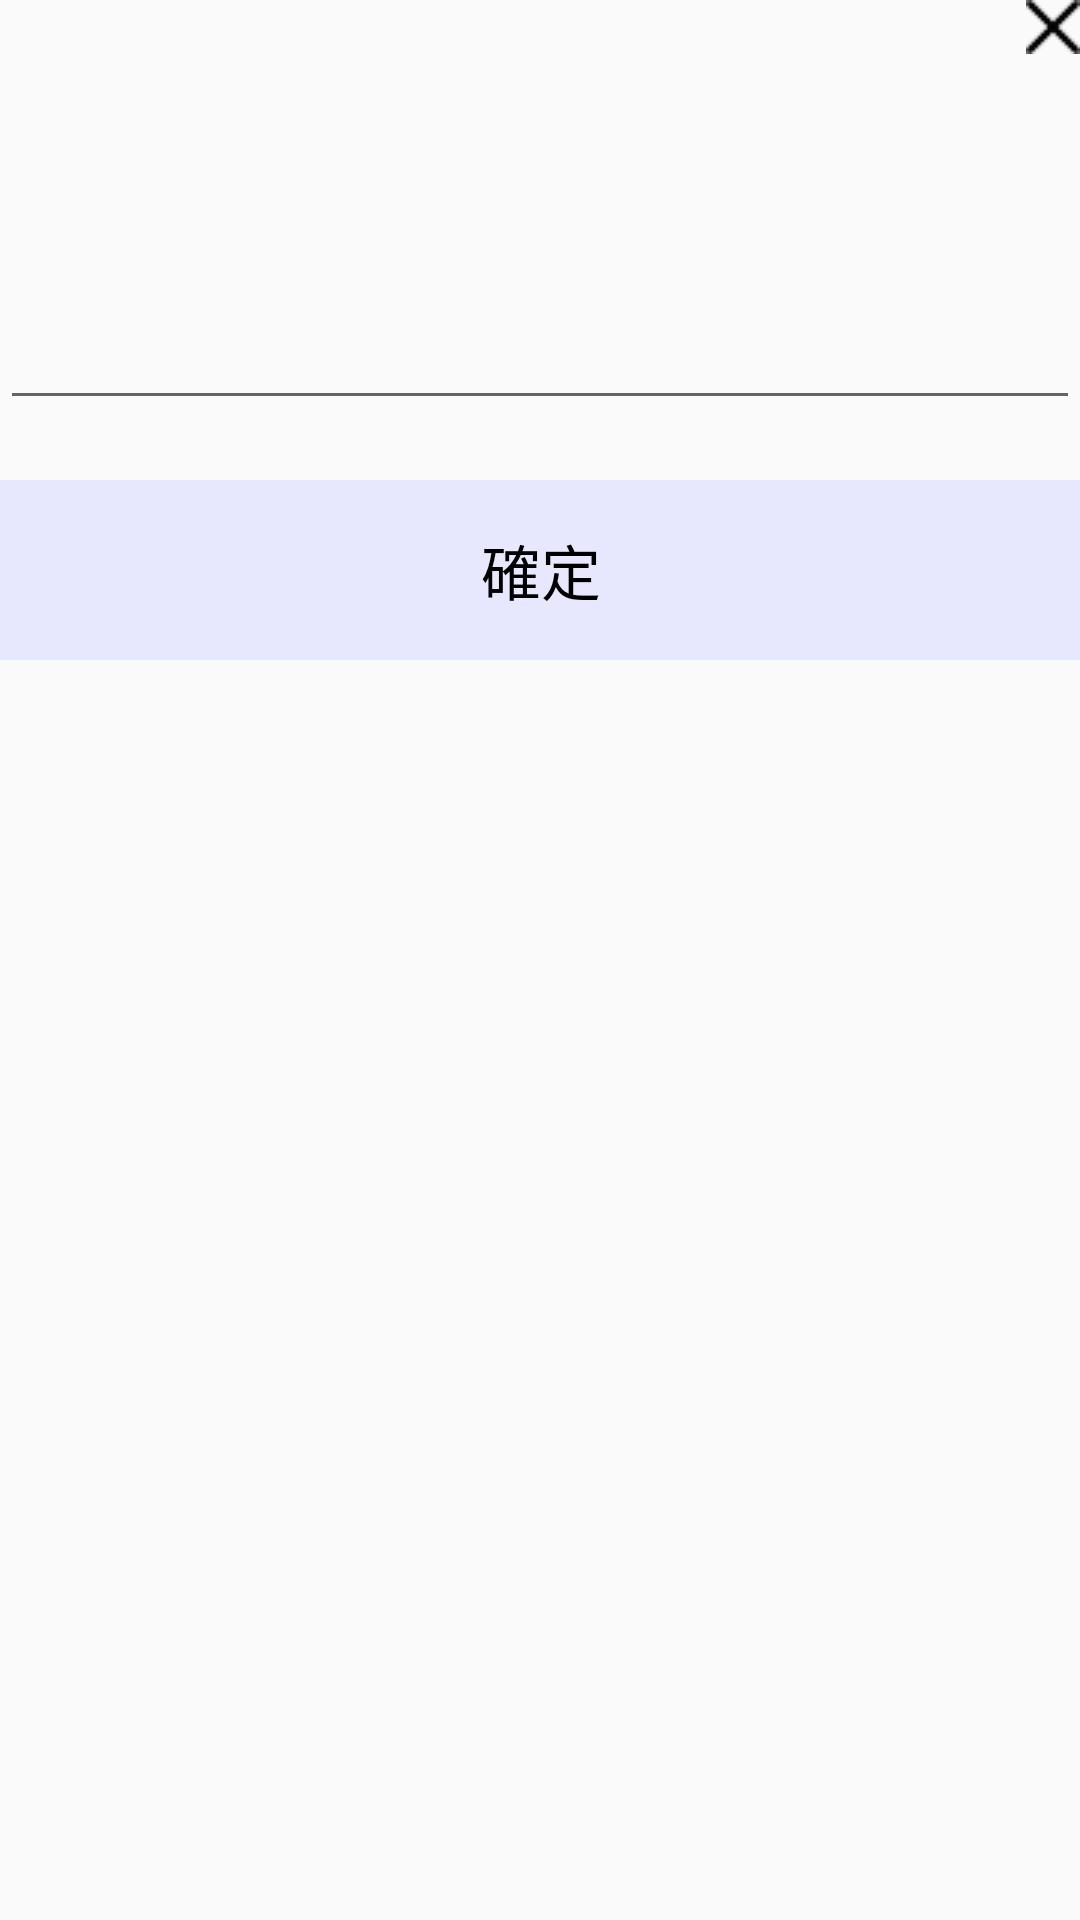

Icons on this 1080px x 1920px Android screen, each with its box as (x1, y1, x2, y2):
del: (1026, 0, 1080, 54)
